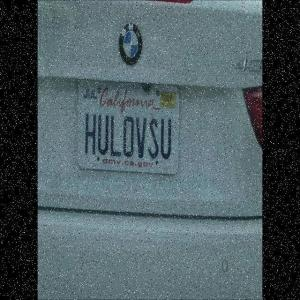Plate: (80, 82, 179, 176)
